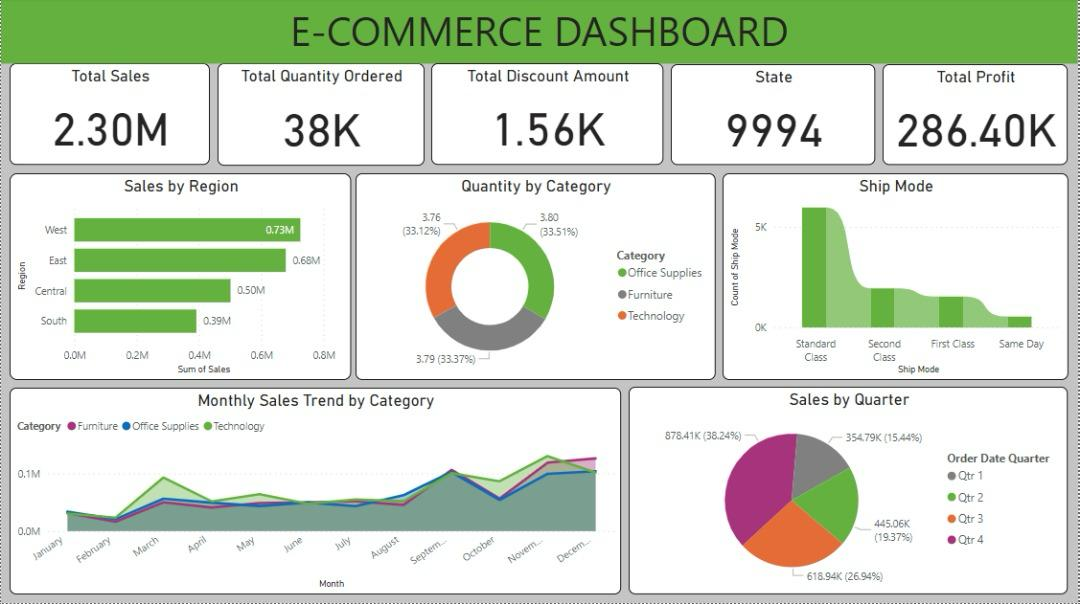

Layout of this report page (visuals, bound fields, positions):
{"tool":"powerbi","page":{"name":"Page 1","canvas":[1280,720],"ordinal":0},"visuals":[{"type":"card","title":"Total Sales","fields":{"Values":["Sum(Data.Sales)"]},"box":[10.2,77.6,237.9,120.9],"z":0},{"type":"areaChart","title":"Monthly Sales Trend by Category","fields":{"Category":["Data.Order Date.Variation.Date Hierarchy.Month"],"Y":["Sum(Data.Sales)"],"Series":["Data.Category"]},"box":[10.2,463.1,726.5,245.6],"z":1000},{"type":"pieChart","title":"Sales by Quarter","fields":{"Category":["Data.Order Date.Variation.Date Hierarchy.Quarter"],"Y":["Sum(Data.Sales)"]},"box":[746.1,462.7,522.4,246.6],"z":2000},{"type":"donutChart","title":"Quantity by Category","fields":{"Category":["Data.Category"],"Y":["Avg(Data.Quantity)"]},"box":[421.2,208.7,427.5,245.6],"z":3000},{"type":"ribbonChart","title":" Ship Mode","fields":{"Category":["Data.Ship Mode"],"Y":["CountNonNull(Data.Ship Mode)"]},"box":[857.6,208.7,411,245.6],"z":4000},{"type":"card","title":"Total Quantity Ordered","fields":{"Values":["Sum(Data.Quantity)"]},"box":[257,77.6,245.6,122.1],"z":5000},{"type":"textbox","box":[0,0,1280,77.5],"z":6000},{"type":"clusteredBarChart","title":"Sales by Region","fields":{"Y":["Sum(Data.Sales)"],"Category":["Data.Region"]},"box":[10.2,208.7,405.9,245.6],"z":7000},{"type":"card","title":"Total Discount Amount","fields":{"Values":["Sum(Data.Discount)"]},"box":[511.5,77.6,276.1,120.9],"z":8000},{"type":"card","title":"State ","fields":{"Values":["CountNonNull(Data.State)"]},"box":[796.5,78.9,243,119.6],"z":9000},{"type":"card","title":"Total Profit","fields":{"Values":["Sum(Data.Profit)"]},"box":[1048.4,78.9,220.1,119.6],"z":10000}]}

Visuals, with their boxes in screenshot pixels (x1, y1, x2, y2), scaled from the page's 1280x720 canvas onto the 1080x604 screenshot:
"Total Sales" card: box(9, 65, 209, 167)
"Monthly Sales Trend by Category" areaChart: box(9, 388, 622, 595)
"Sales by Quarter" pieChart: box(630, 388, 1070, 595)
"Quantity by Category" donutChart: box(355, 175, 716, 381)
" Ship Mode" ribbonChart: box(724, 175, 1070, 381)
"Total Quantity Ordered" card: box(217, 65, 424, 168)
textbox: box(0, 0, 1079, 65)
"Sales by Region" clusteredBarChart: box(9, 175, 351, 381)
"Total Discount Amount" card: box(432, 65, 665, 167)
"State " card: box(672, 66, 877, 167)
"Total Profit" card: box(885, 66, 1070, 167)
